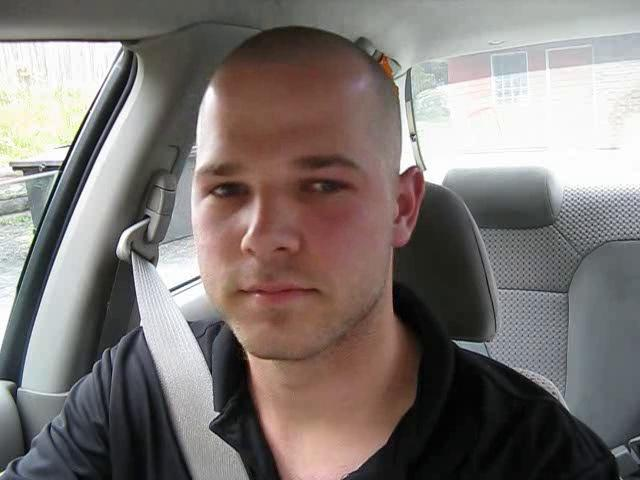no_yawn: (216, 265, 332, 326)
open_eyeL: (185, 168, 263, 219)
open_eyeR: (285, 160, 372, 211)
